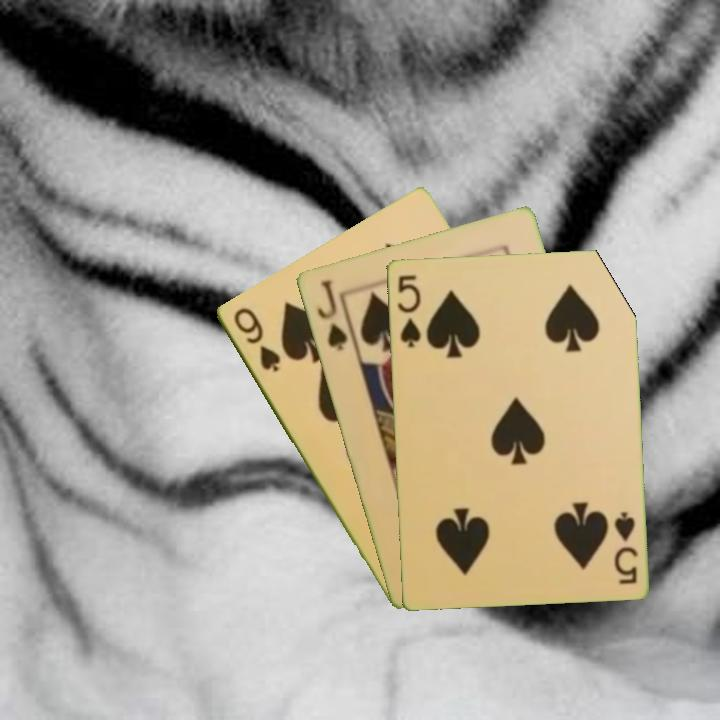5s: (610, 507, 640, 587), (393, 271, 423, 350)
9s: (229, 303, 283, 375)
Js: (313, 276, 350, 354)
